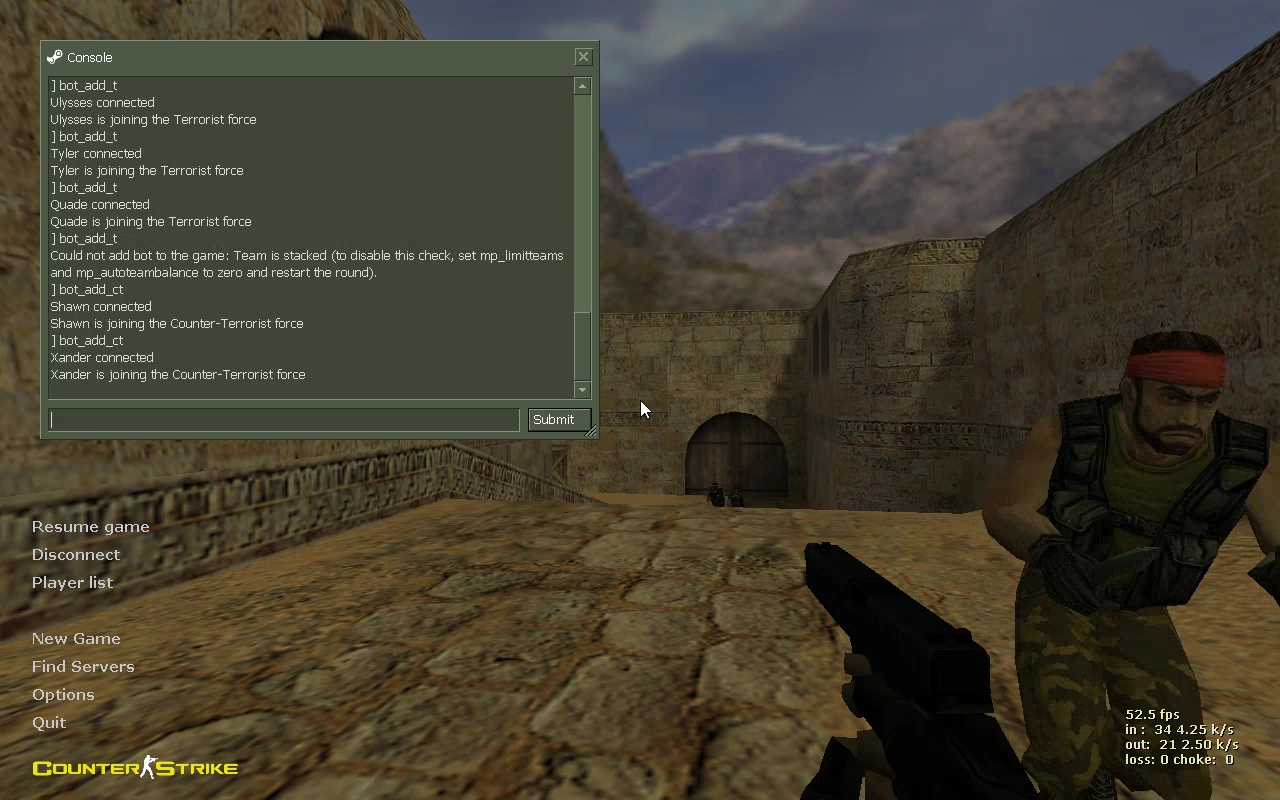terr1: (980, 331, 1278, 800), (706, 483, 726, 511)
